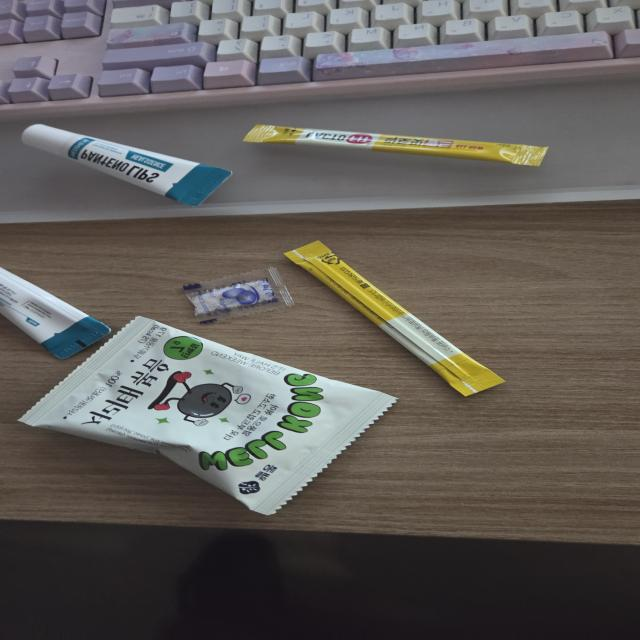lacto: (273, 235, 520, 405), (239, 124, 554, 176)
lip: (0, 116, 235, 225), (0, 258, 115, 364)
salt: (170, 270, 300, 325)
